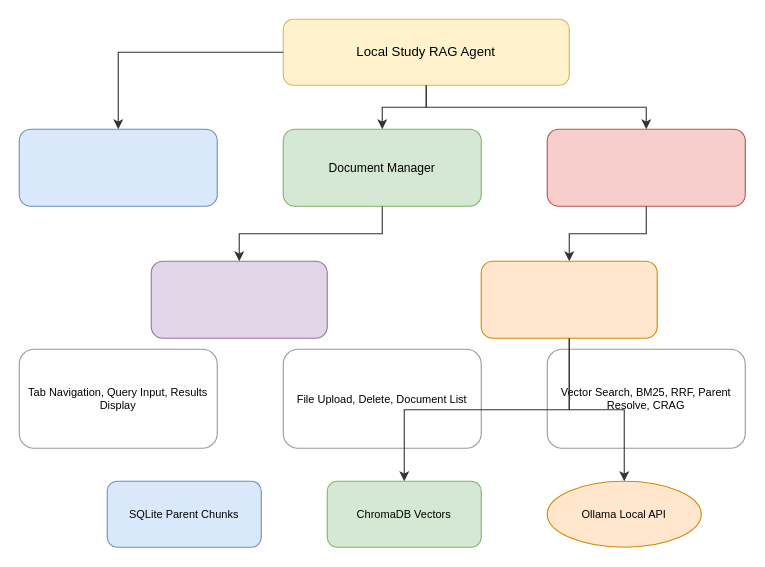
The diagram is 765 pixels wide and 567 high, and some of its shapes have lost their labels. The box of each missing label's shape, as (x1, y1, x2, y2) in pixels:
AI Connector: (480, 260, 657, 338)
Retrieval Manager: (546, 128, 745, 206)
Storage: (150, 260, 327, 338)
UI Layer: (18, 128, 217, 206)
